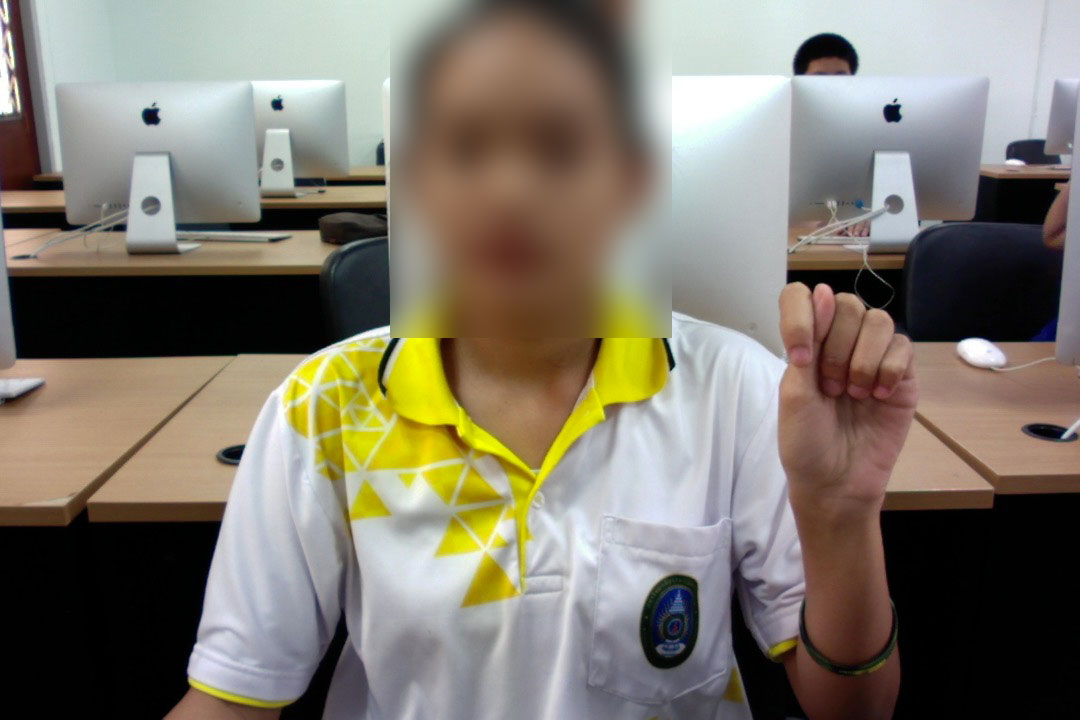tor: (773, 278, 922, 532)
